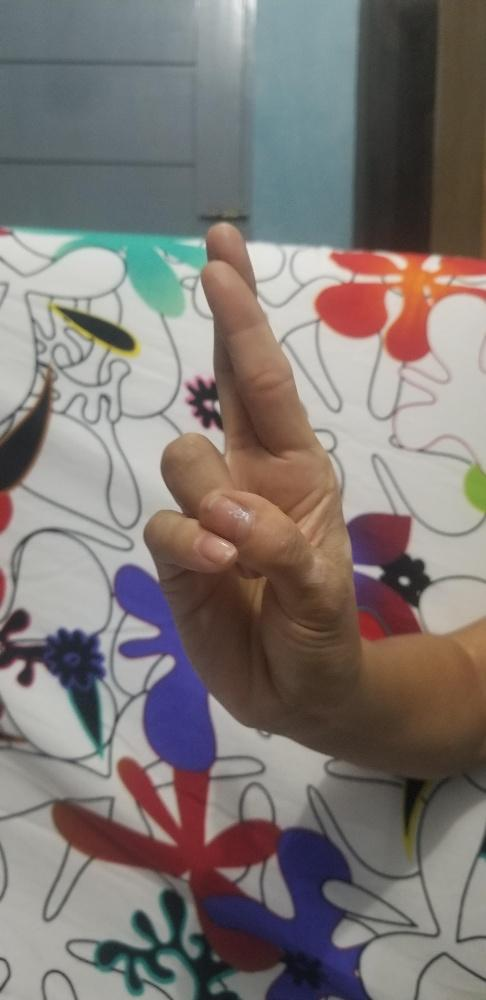r: (141, 216, 360, 736)
